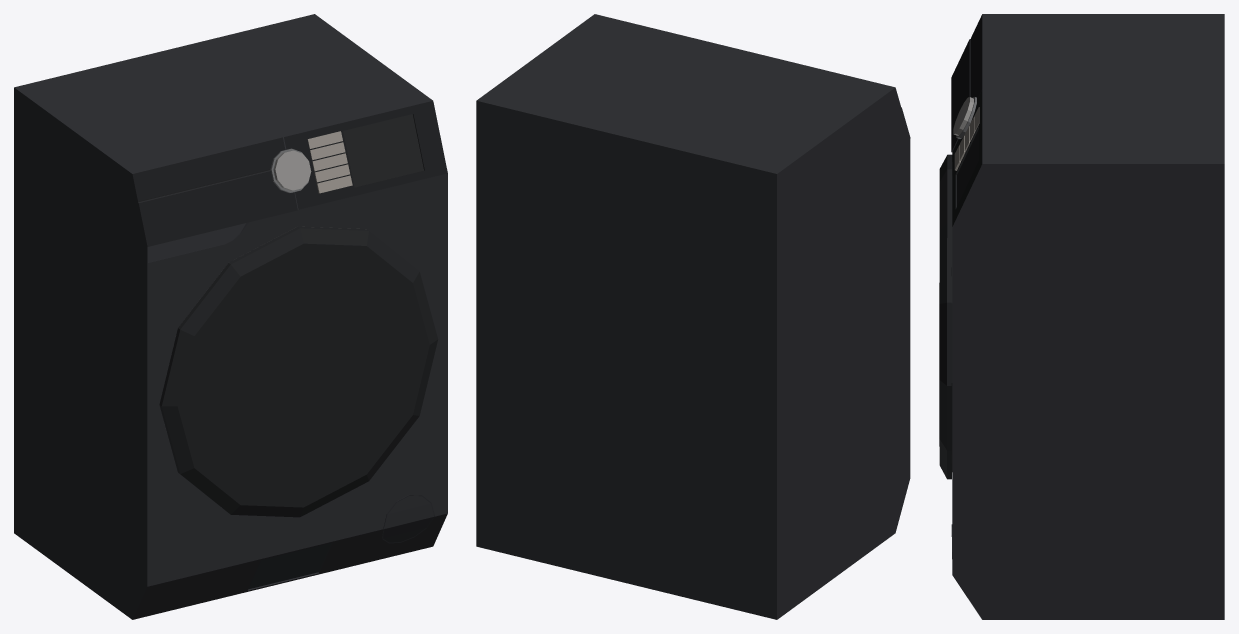
File: washingmachinemodern_01_E.gltf
The picture shows the model from 3 angles, left to right: view 1: azimuth 30°, elevation 25°; view 2: azimuth 150°, elevation 25°; view 3: azimuth 270°, elevation 25°; orthographic projection. The views are drawn at different scales.
Visible parts, largest first — view 1: washingmachinemodern_01_E, Doorforwashingmachinemodern_01_E, Shelfforwashingmachinemodern_01_E, Hatchforwashingmachinemodern_01_E, Switchforwashingmachinemodern_01_E; view 2: washingmachinemodern_01_E; view 3: washingmachinemodern_01_E, Doorforwashingmachinemodern_01_E, Shelfforwashingmachinemodern_01_E, Switchforwashingmachinemodern_01_E.
Boxes of the visible parts, bbox=[...] form: washingmachinemodern_01_E: bbox=[14, 14, 447, 619]; Doorforwashingmachinemodern_01_E: bbox=[159, 226, 438, 517]; Shelfforwashingmachinemodern_01_E: bbox=[138, 170, 297, 246]; Hatchforwashingmachinemodern_01_E: bbox=[382, 495, 434, 543]; Switchforwashingmachinemodern_01_E: bbox=[273, 150, 311, 190]; washingmachinemodern_01_E: bbox=[476, 14, 910, 619]; washingmachinemodern_01_E: bbox=[952, 14, 1224, 619]; Doorforwashingmachinemodern_01_E: bbox=[939, 154, 952, 479]; Shelfforwashingmachinemodern_01_E: bbox=[951, 39, 970, 152]; Switchforwashingmachinemodern_01_E: bbox=[953, 97, 973, 135].
Bounding box in the file's own units: 0.6 × 0.85 × 0.4818.
Materials: 1 (1 with a texture image).
